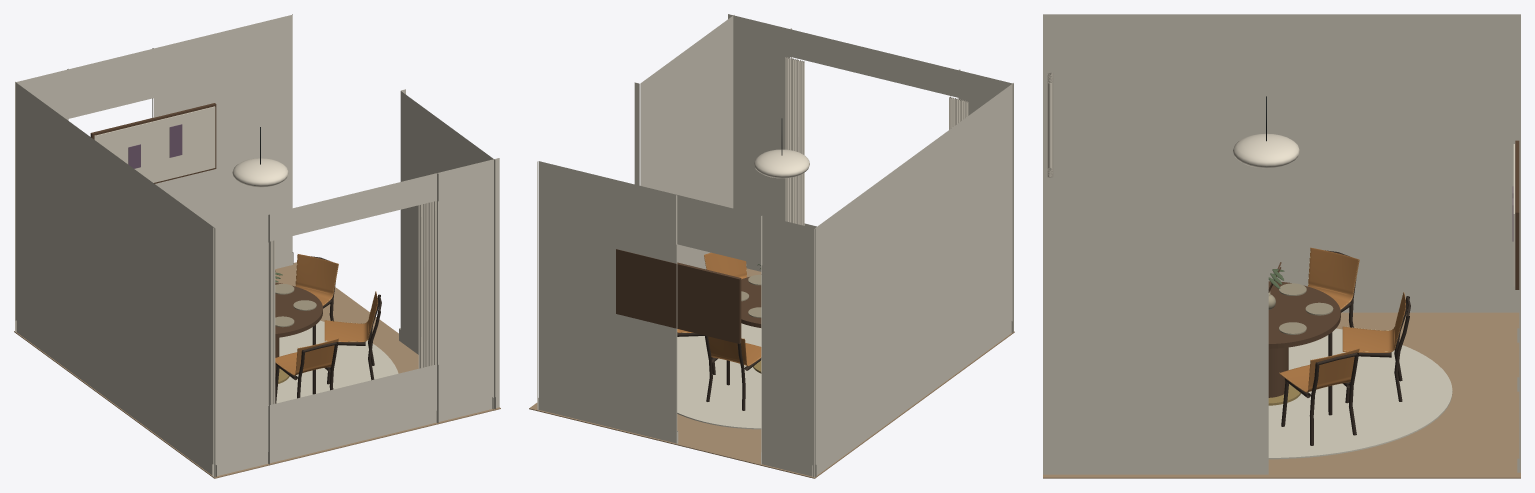
The model's file is dining-1.glb.
3 views of the same model, side by side, from view 1: azimuth 30°, elevation 25°; view 2: azimuth 150°, elevation 25°; view 3: azimuth 270°, elevation 25° (orthographic). The views are drawn at different scales.
Parts seen in each view (by area): view 1: DESIGN | dining removable wall finish, DESIGN | Textile artwork.001, DESIGN | dining floor finish, DESIGN | Dining ground, DESIGN | Dining linen edge.001, DESIGN | Required Isadora dining chair 5, DESIGN | Required Isadora dining chair 1, DESIGN | Required Isadora dining chair 6, DESIGN | Dining table top, DESIGN | Dining light 1 shade, DESIGN | Dining linen edge, DESIGN | Quiet artwork frame.001; view 2: DESIGN | dining removable wall finish, DESIGN | Quiet artwork frame.001, DESIGN | Dining ground, DESIGN | dining floor finish, DESIGN | Dining linen edge.001, DESIGN | Required Isadora dining chair 2, DESIGN | Dining light 1 shade, DESIGN | Required Isadora dining chair 6, DESIGN | Dining table top; view 3: DESIGN | dining removable wall finish, DESIGN | dining floor finish, DESIGN | Dining ground, DESIGN | Dining table top, DESIGN | Required Isadora dining chair 1, DESIGN | Required Isadora dining chair 3, DESIGN | Required Isadora dining chair 2, DESIGN | Dining light 1 shade, DESIGN | Dining table pedestal, DESIGN | Quiet artwork frame.001, DESIGN | Dining linen edge.
Boxes of the visible parts, x1,y1,x2,y2 form: DESIGN | dining removable wall finish: [15, 14, 499, 477]; DESIGN | Textile artwork.001: [94, 106, 215, 182]; DESIGN | dining floor finish: [14, 262, 500, 478]; DESIGN | Dining ground: [276, 320, 398, 403]; DESIGN | Dining linen edge.001: [418, 201, 436, 368]; DESIGN | Required Isadora dining chair 5: [275, 338, 338, 403]; DESIGN | Required Isadora dining chair 1: [295, 254, 338, 344]; DESIGN | Required Isadora dining chair 6: [324, 291, 381, 384]; DESIGN | Dining table top: [275, 283, 322, 337]; DESIGN | Dining light 1 shade: [232, 158, 288, 187]; DESIGN | Dining linen edge: [268, 240, 275, 405]; DESIGN | Quiet artwork frame.001: [90, 103, 216, 183]; DESIGN | dining removable wall finish: [537, 14, 1013, 477]; DESIGN | Quiet artwork frame.001: [616, 249, 741, 343]; DESIGN | Dining ground: [677, 323, 761, 429]; DESIGN | dining floor finish: [529, 268, 1014, 478]; DESIGN | Dining linen edge.001: [785, 57, 804, 225]; DESIGN | Required Isadora dining chair 2: [705, 335, 761, 410]; DESIGN | Dining light 1 shade: [754, 149, 809, 178]; DESIGN | Required Isadora dining chair 6: [704, 252, 746, 279]; DESIGN | Dining table top: [741, 274, 761, 327]; DESIGN | dining removable wall finish: [1043, 14, 1520, 474]; DESIGN | dining floor finish: [1043, 312, 1520, 478]; DESIGN | Dining ground: [1268, 328, 1452, 459]; DESIGN | Dining table top: [1268, 281, 1340, 348]; DESIGN | Required Isadora dining chair 1: [1279, 348, 1359, 445]; DESIGN | Required Isadora dining chair 3: [1308, 247, 1359, 356]; DESIGN | Required Isadora dining chair 2: [1342, 292, 1410, 403]; DESIGN | Dining light 1 shade: [1233, 133, 1299, 168]; DESIGN | Dining table pedestal: [1268, 347, 1288, 397]; DESIGN | Quiet artwork frame.001: [1515, 140, 1519, 289]; DESIGN | Dining linen edge: [1047, 72, 1053, 170].
Size of the model in its own units: 3.28 by 2.74 by 3.98.
